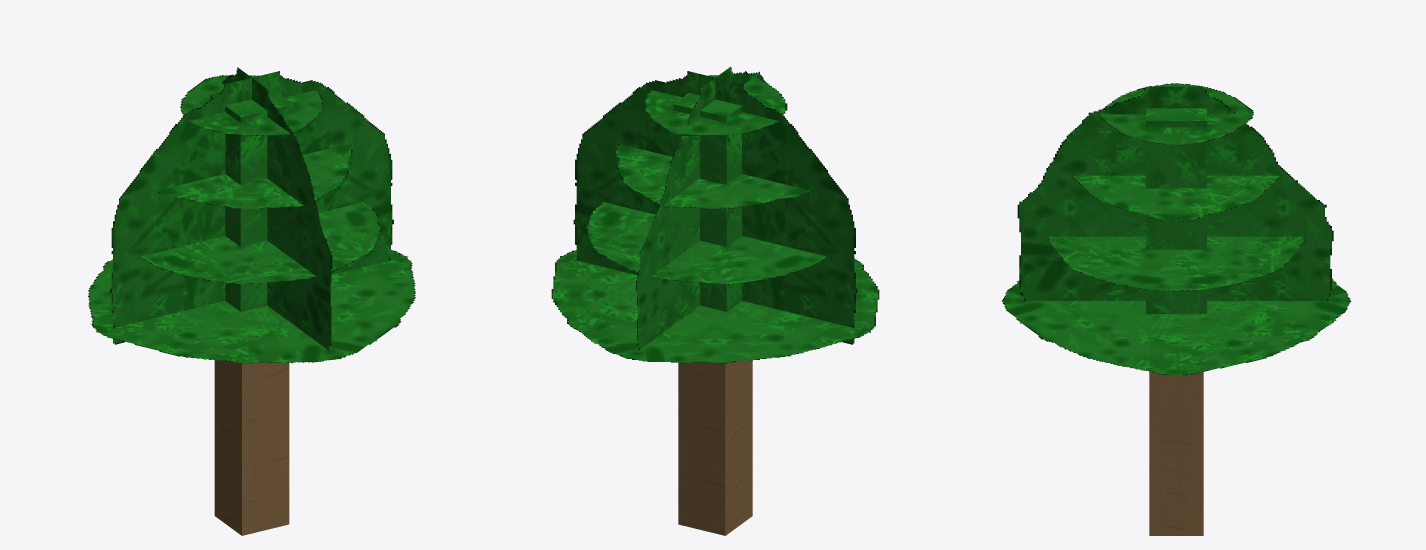
The model's file is tree.glb.
3 views of the same model, side by side, from view 1: azimuth 30°, elevation 25°; view 2: azimuth 150°, elevation 25°; view 3: azimuth 270°, elevation 25° (orthographic).
Parts seen in each view (by area): view 1: intersect1, first, trunk, intersect2, second, bush, third, fourth; view 2: intersect1, first, trunk, intersect2, second, bush, third, fourth; view 3: intersect2, first, second, trunk, bush, third, fourth.
Boxes of the visible parts, <box> form: intersect1: <box>110,71,393,344</box>; first: <box>88,250,415,363</box>; trunk: <box>214,360,289,535</box>; intersect2: <box>222,67,332,349</box>; second: <box>140,202,382,284</box>; bush: <box>210,92,293,311</box>; third: <box>156,144,352,209</box>; fourth: <box>180,75,323,135</box>; intersect1: <box>573,71,857,344</box>; first: <box>551,250,879,363</box>; trunk: <box>678,360,752,535</box>; intersect2: <box>636,66,765,349</box>; second: <box>585,202,827,284</box>; bush: <box>673,92,757,311</box>; third: <box>614,144,811,209</box>; fourth: <box>643,75,787,135</box>; intersect2: <box>1017,86,1333,300</box>; first: <box>1001,278,1351,376</box>; second: <box>1047,236,1305,291</box>; trunk: <box>1149,371,1203,535</box>; bush: <box>1146,108,1206,313</box>; third: <box>1072,175,1279,222</box>; fourth: <box>1099,83,1253,145</box>.
Size of the model in its own units: 8.71 by 8.94 by 8.71.
Materials: 3 (3 with a texture image).
